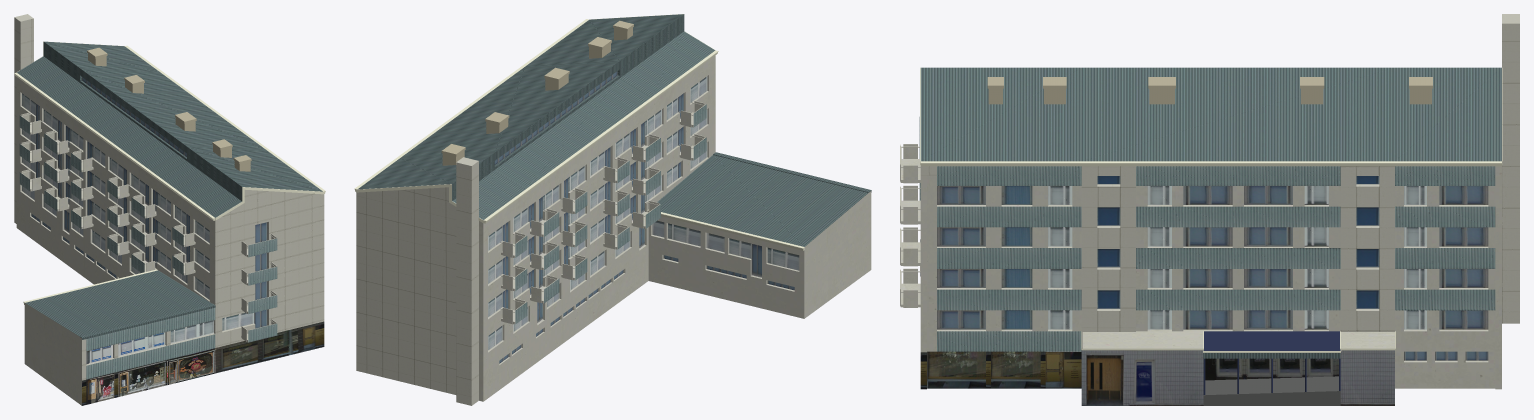
The model's file is uusikatu_18.dae.
3 renders of one model, left to right at view 1: azimuth 30°, elevation 25°; view 2: azimuth 150°, elevation 25°; view 3: azimuth 270°, elevation 25°, orthographic. The views are drawn at different scales.
Visible parts, largest first — view 1: Object_1; view 2: Object_1; view 3: Object_1.
Boxes of the visible parts, x1,y1,x2,y2 form: Object_1: (14,14,325,405); Object_1: (354,14,871,405); Object_1: (900,14,1519,405).
Size of the model in its own units: 27.54 by 37.85 by 20.24.
